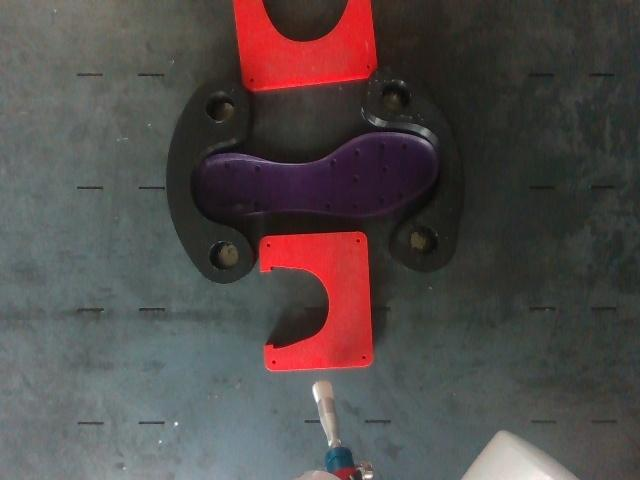shoes: (197, 135, 436, 216)
